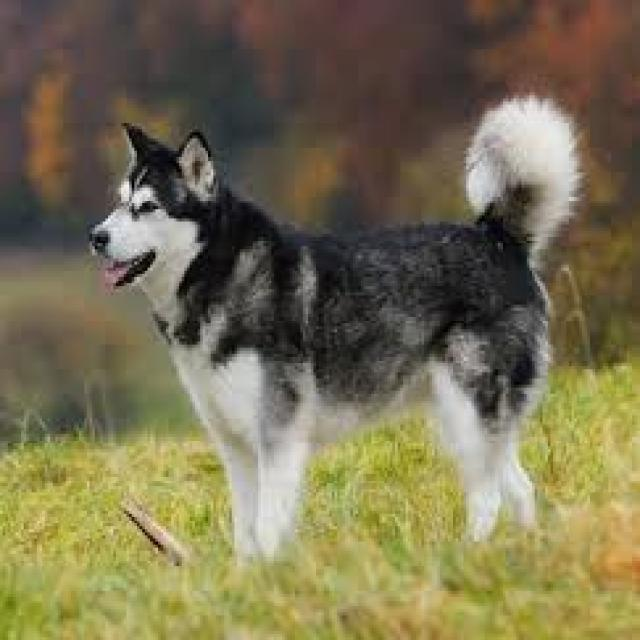ALASKAN_MALAMUTE: (72, 87, 583, 582)
